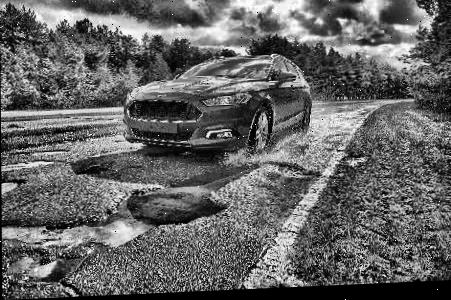pothole: (102, 185, 225, 230), (1, 158, 55, 172), (74, 162, 112, 175), (1, 177, 26, 194)
